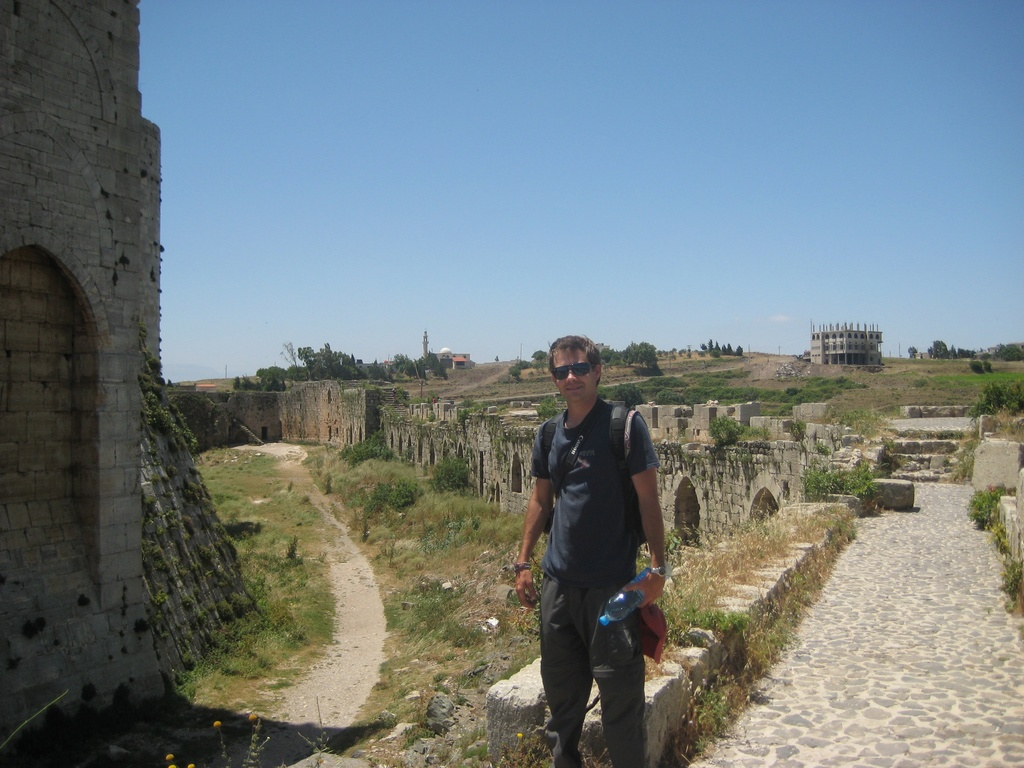Tree: (419, 346, 451, 385), (291, 343, 321, 383), (610, 380, 650, 409), (250, 371, 293, 396), (630, 341, 663, 371), (325, 357, 360, 383), (328, 350, 360, 375), (255, 363, 291, 384), (362, 358, 389, 382), (529, 344, 548, 378), (926, 332, 946, 364), (992, 341, 1023, 360), (400, 351, 416, 381), (504, 364, 523, 388), (957, 343, 981, 360), (229, 371, 247, 391), (904, 343, 920, 362), (599, 347, 613, 368), (969, 358, 984, 374), (709, 337, 723, 354), (163, 376, 177, 392), (725, 343, 739, 359), (734, 341, 746, 358), (949, 346, 961, 362), (699, 339, 707, 357), (983, 359, 994, 372), (707, 348, 716, 359)
